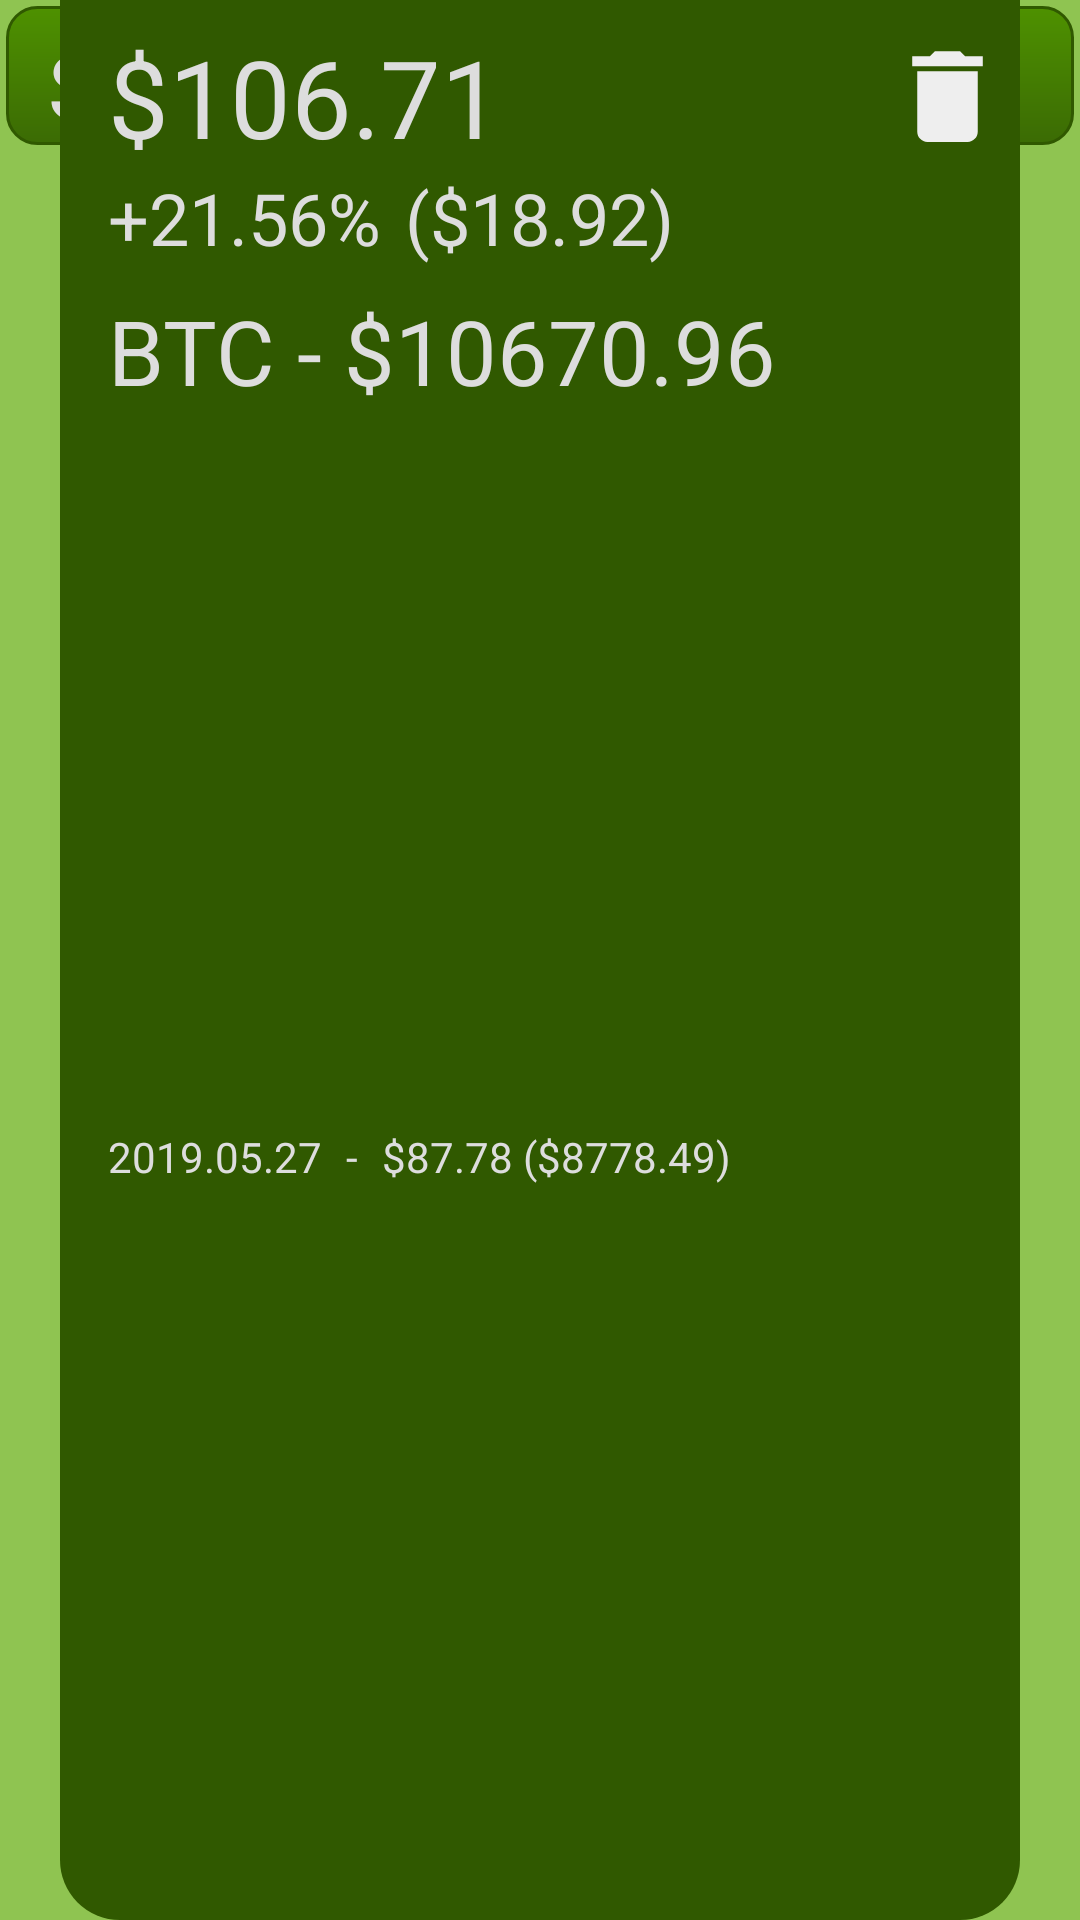

Point at icon controls on the screen. Image size 1080×1920, points as [x,y].
delete: [947,96]
